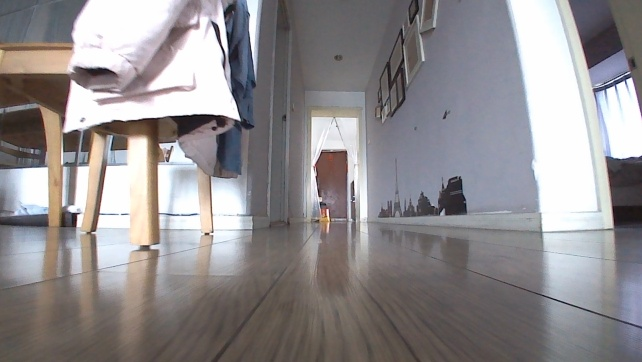door_anno: (310, 148, 348, 221)
wire: (97, 208, 198, 220)
